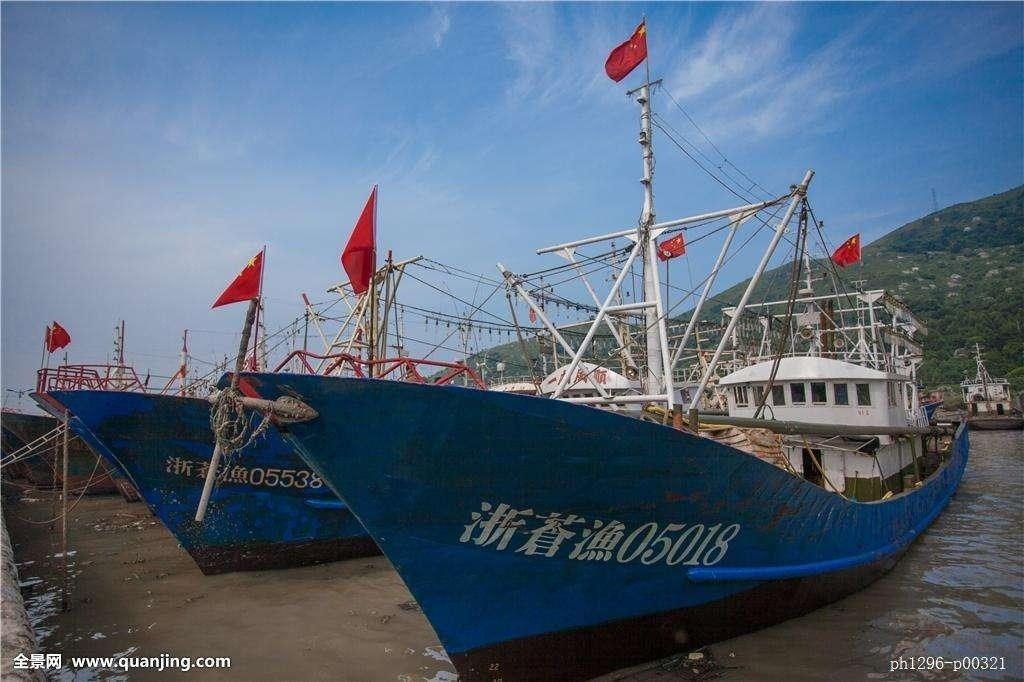otherboat: (213, 205, 973, 635)
